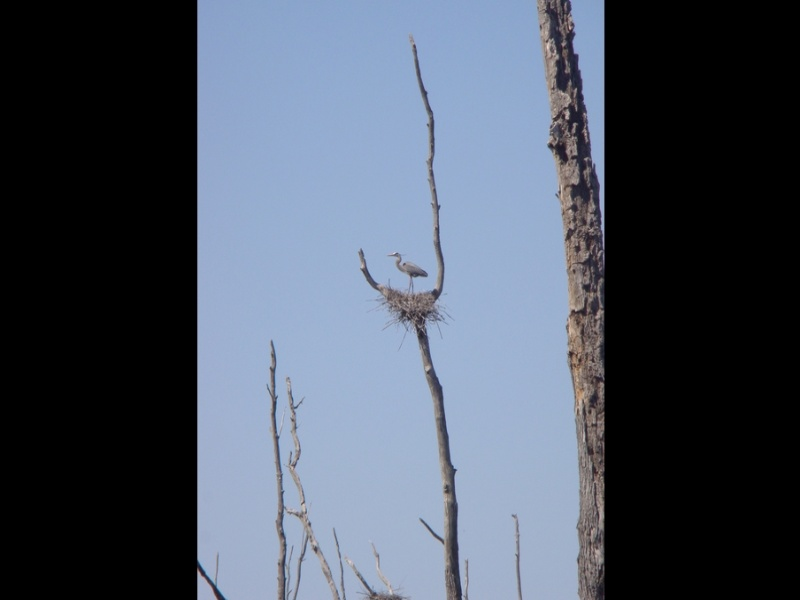heron: (382, 251, 424, 293)
